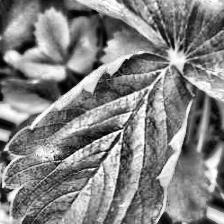Powdery Mildew Leaf: (2, 51, 194, 224)
